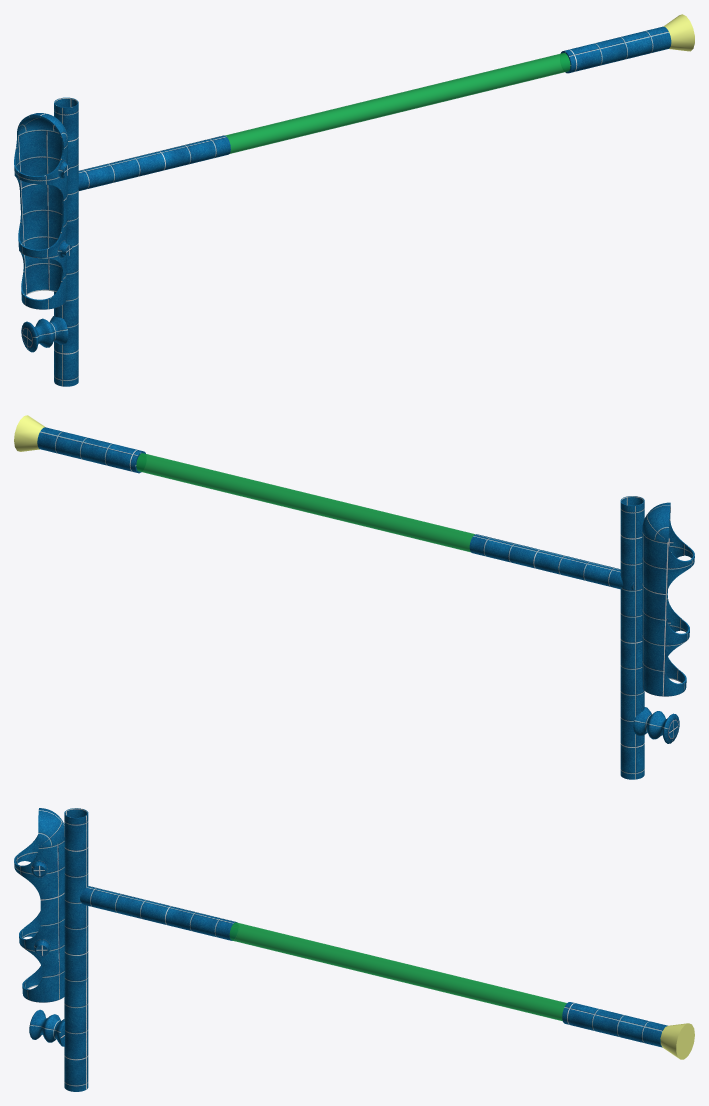
Rendered from inter_iit.obj.
3 views of the same model, one above another, from view 1: azimuth 30°, elevation 25°; view 2: azimuth 150°, elevation 25°; view 3: azimuth 330°, elevation 25° (orthographic).
Parts seen in each view (by area): view 1: Solid2, Solid1:1, Solid2:1, Solid1:3, Solid1, Solid1:4, Solid1:2; view 2: Solid2, Solid1:1, Solid2:1, Solid1:3, Solid1, Solid1:4, Solid1:2; view 3: Solid2:1, Solid2, Solid1:1, Solid1:3, Solid1, Solid1:2, Solid1:4.
Part boxes in pixels (x1,y1,x2,y2): Solid2: (14, 113, 71, 309); Solid1:1: (225, 53, 570, 153); Solid2:1: (54, 97, 78, 386); Solid1:3: (78, 135, 230, 190); Solid1: (560, 26, 671, 73); Solid1:4: (21, 316, 68, 352); Solid1:2: (663, 14, 694, 51); Solid2: (642, 502, 694, 696); Solid1:1: (136, 453, 474, 552); Solid2:1: (620, 496, 644, 779); Solid1:3: (469, 534, 633, 590); Solid1: (37, 427, 145, 473); Solid1:4: (633, 707, 679, 743); Solid1:2: (14, 415, 45, 451); Solid2:1: (64, 808, 88, 1091); Solid2: (14, 808, 64, 1002); Solid1:1: (229, 922, 660, 1040); Solid1:3: (80, 886, 237, 940); Solid1: (562, 1002, 667, 1047); Solid1:2: (660, 1023, 694, 1059); Solid1:4: (29, 1009, 64, 1046).
Size of the model in its own units: 1012 by 400 by 80.63.
3 materials, 1 textured.
